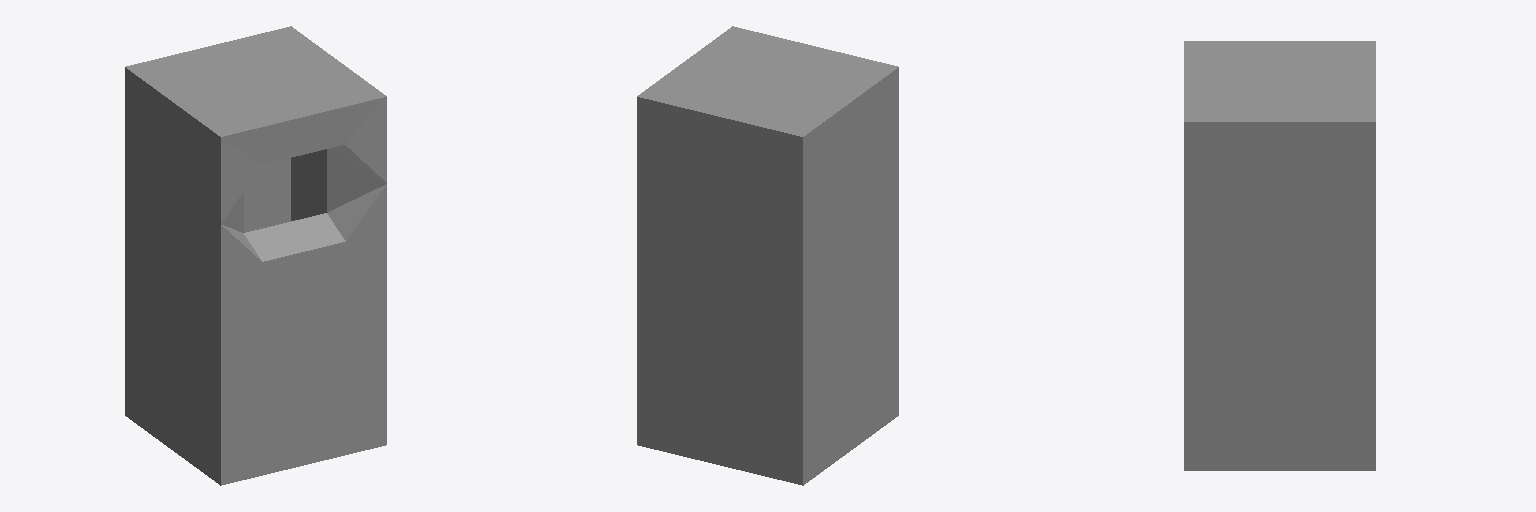
The model's file is terminal.obj.
The picture shows the model from 3 angles: view 1: azimuth 30°, elevation 25°; view 2: azimuth 150°, elevation 25°; view 3: azimuth 270°, elevation 25°; orthographic projection.
Parts seen in each view (by area): view 1: Cube; view 2: Cube; view 3: Cube.
Boxes of the visible parts, x1=… form: Cube: x1=125, y1=26, x2=386, y2=485; Cube: x1=637, y1=26, x2=898, y2=485; Cube: x1=1184, y1=41, x2=1375, y2=470.
Bounding box in the file's own units: 2 × 4 × 2.